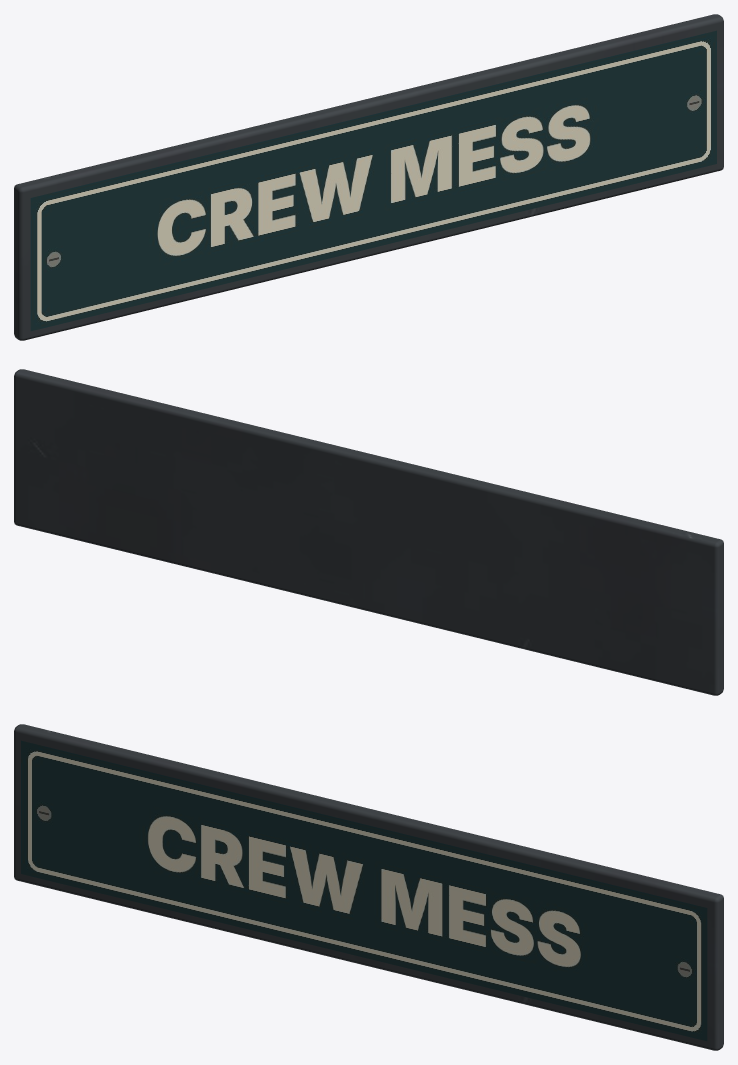
File: RoomSign_Crew_Mess.glb
3 renders of one model, top to bottom at view 1: azimuth 30°, elevation 25°; view 2: azimuth 150°, elevation 25°; view 3: azimuth 330°, elevation 25°, orthographic.
Parts seen in each view (by area): view 1: RoomSign_Crew_Mess_Body; view 2: RoomSign_Crew_Mess_Body; view 3: RoomSign_Crew_Mess_Body.
Part boxes in pixels (box(x1,y1,x2,y2)): RoomSign_Crew_Mess_Body: box(14, 14, 723, 340); RoomSign_Crew_Mess_Body: box(14, 369, 723, 695); RoomSign_Crew_Mess_Body: box(14, 724, 723, 1050).
Size of the model in its own units: 0.72 by 0.15 by 0.0155.
2 materials, 2 textured.
